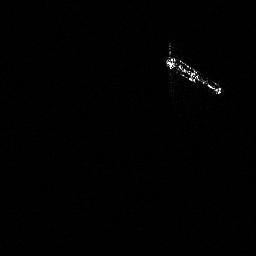ship: (164, 42, 222, 96)
